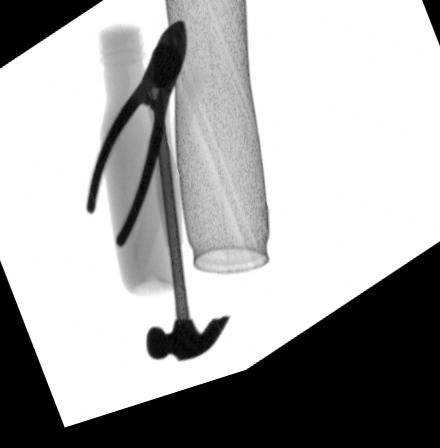Hammer: (144, 99, 231, 371)
Pliers: (87, 30, 188, 255)
